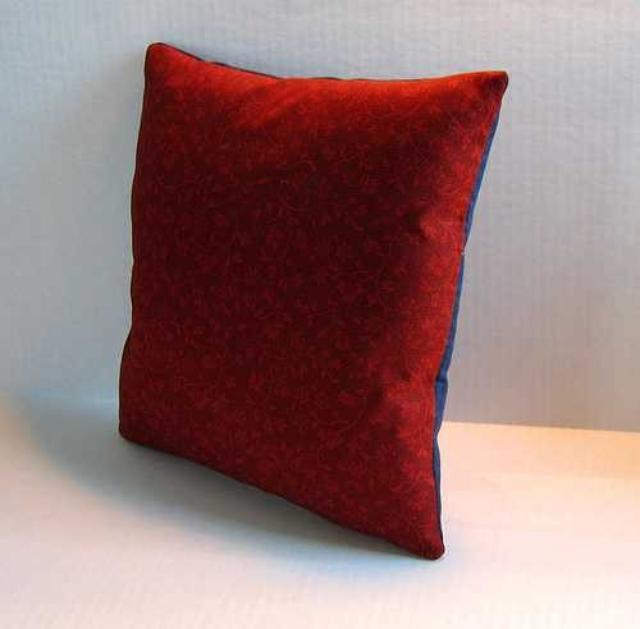pillow: (117, 40, 509, 560)
